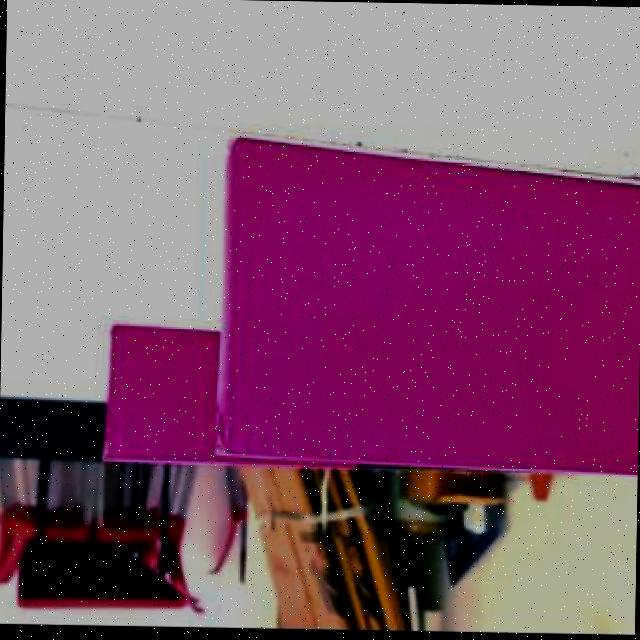xparking: (215, 138, 640, 469), (102, 321, 210, 467)
